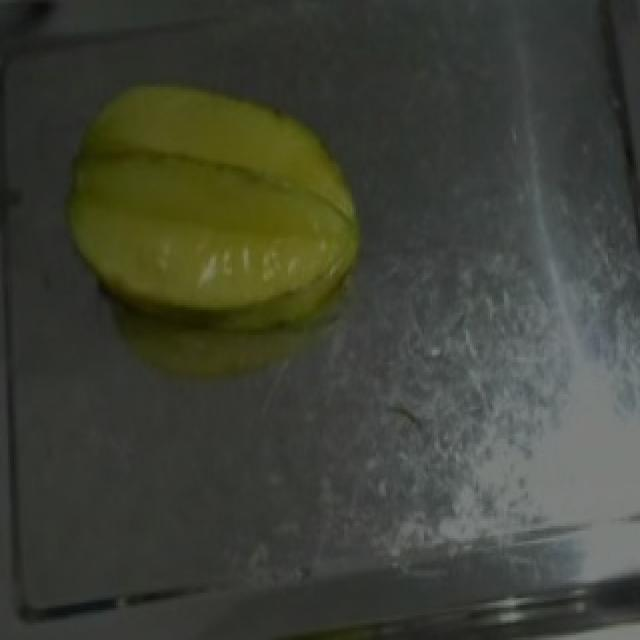fruit: (46, 60, 394, 342)
